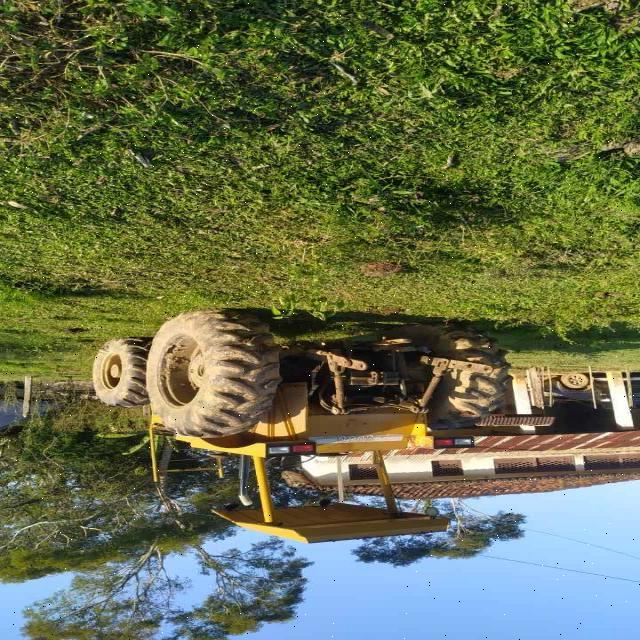Tratores - v5 YOLO V8L 2024-11-13: (91, 307, 538, 544)
